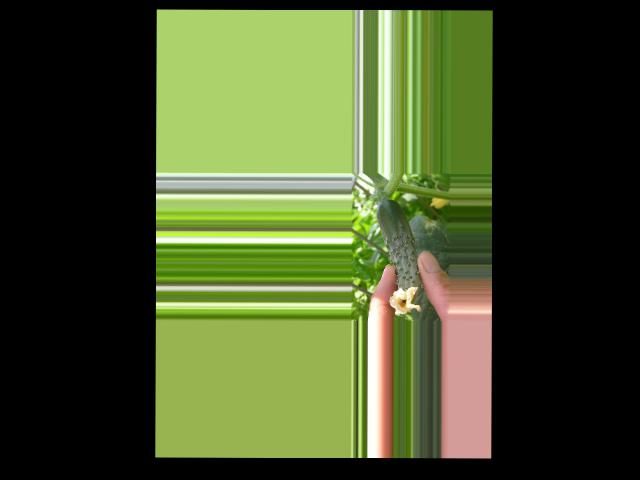cucumber: (376, 198, 421, 314)
